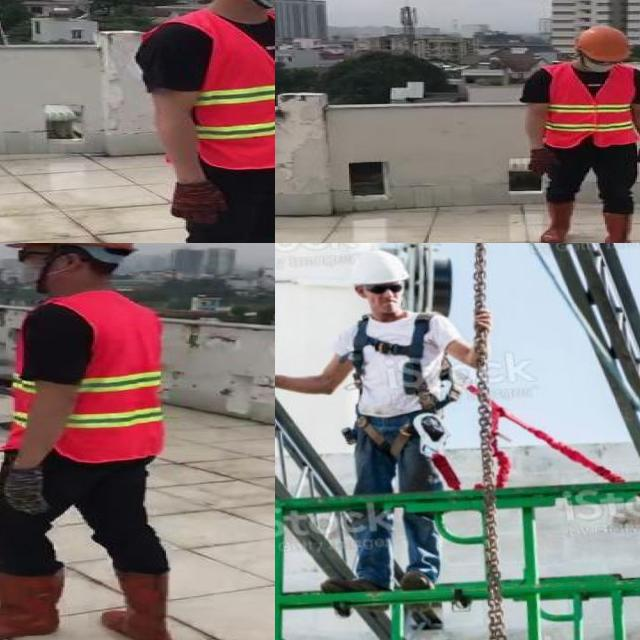Harness: (352, 316, 440, 410)
boots: (100, 571, 178, 640), (0, 567, 69, 640), (535, 198, 574, 243), (599, 212, 640, 243)
face_mask: (6, 248, 59, 295)
hand_glove: (170, 184, 228, 222), (6, 469, 50, 514), (526, 148, 560, 176), (633, 144, 640, 168)
head_helmet: (576, 26, 632, 62), (8, 243, 143, 253)
person: (0, 243, 192, 640), (126, 0, 275, 243), (516, 23, 640, 243)
vest: (6, 295, 168, 462), (185, 15, 275, 170), (542, 63, 640, 146)
